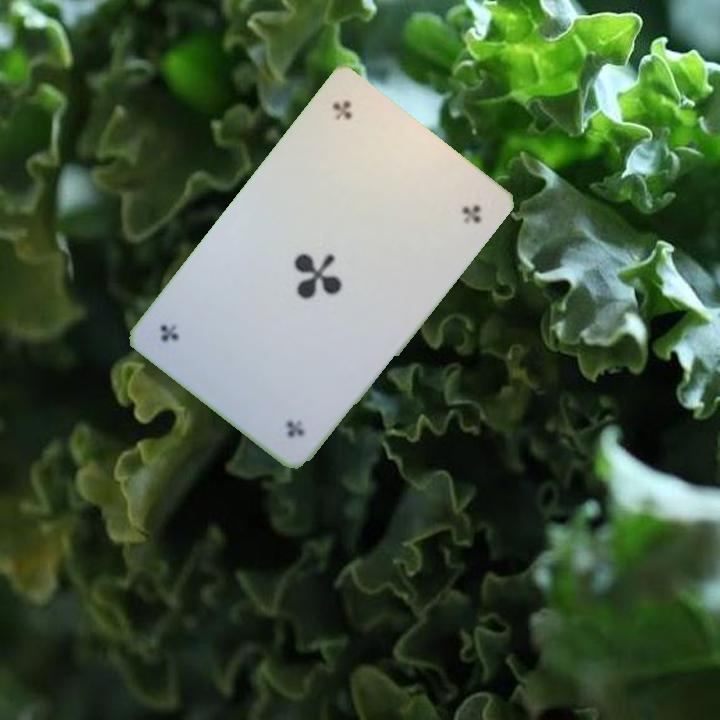c_a.png: (221, 328, 351, 455), (292, 85, 422, 212)
